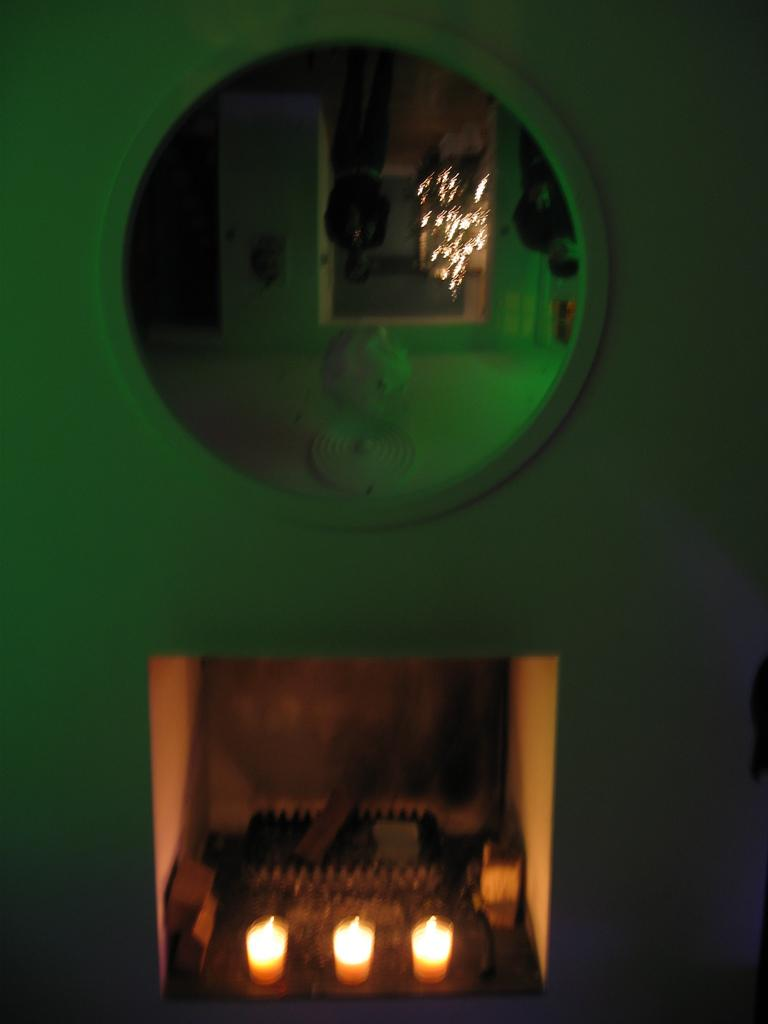fire: (208, 906, 476, 969)
